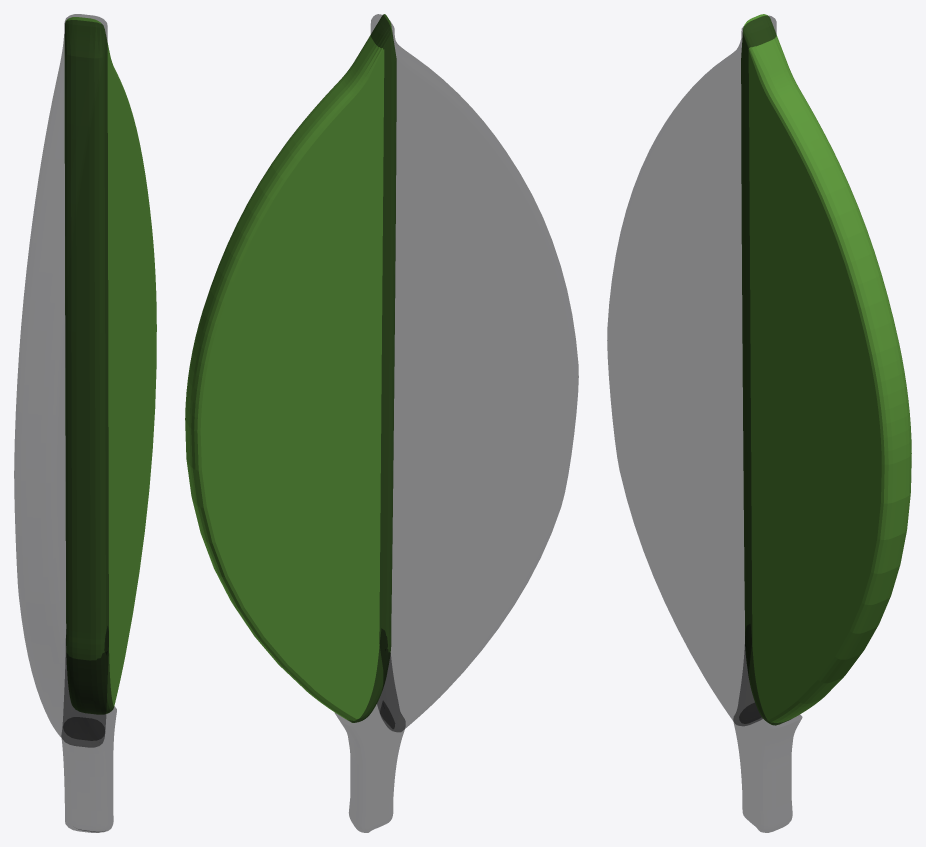
File: mongodb.glb
The picture shows the model from 3 angles, left to right: view 1: azimuth 30°, elevation 25°; view 2: azimuth 150°, elevation 25°; view 3: azimuth 270°, elevation 25°; orthographic projection. The views are drawn at different scales.
Bounding box in the file's own units: 35.28 × 103 × 35.34.
